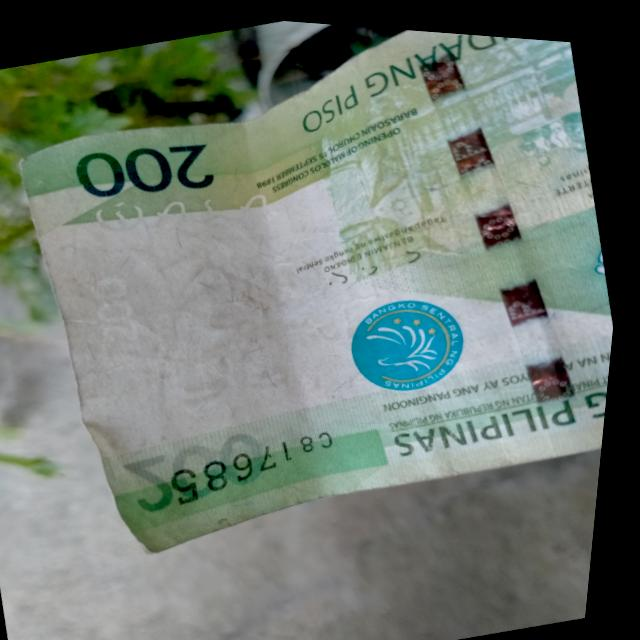security_thread: (376, 24, 624, 472)
see_through_mark: (93, 148, 293, 261)
serial_number: (161, 413, 350, 513)
value_watermark: (83, 263, 158, 349)
watermark: (93, 204, 353, 476)
